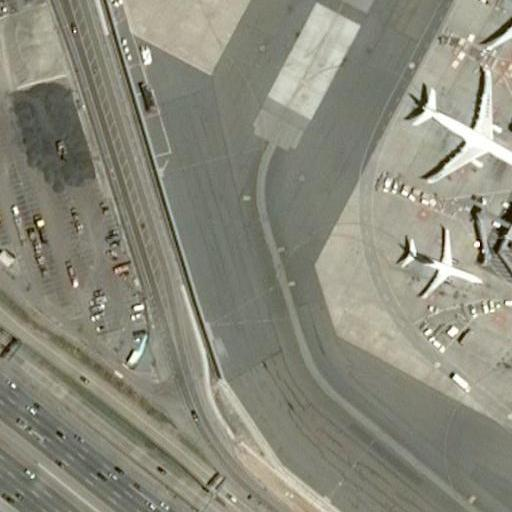Aircraft: (397, 59, 512, 188), (399, 223, 480, 299), (448, 0, 512, 52)
